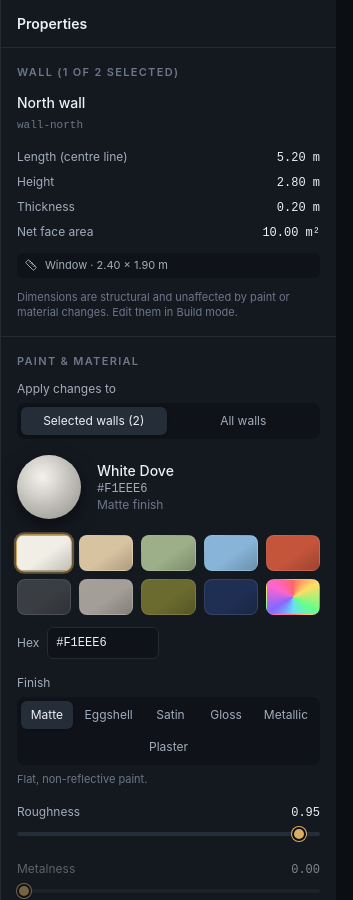
PropertiesPanel › applies to a selected group of walls
This screenshot has width=353, height=900.
Check: the radio button labelled "Selected walls (2)" is shown, box [21,407,166,435]
Click the button named "Olive" at (168, 597), box [141,579,196,615]
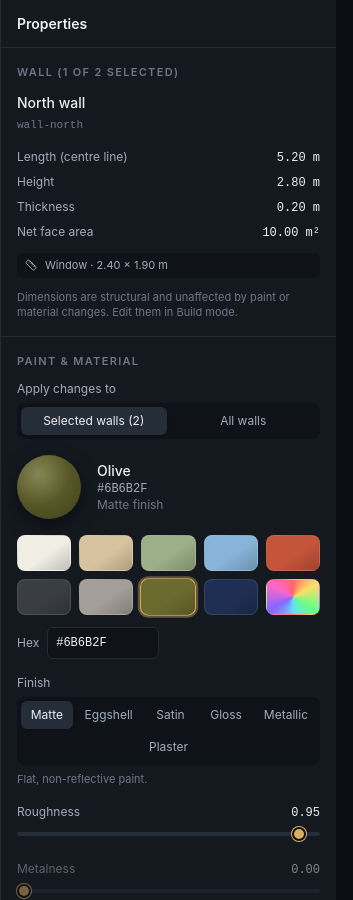
Check: the text "#6B6B2F" is shown, box [97,482,147,496]
